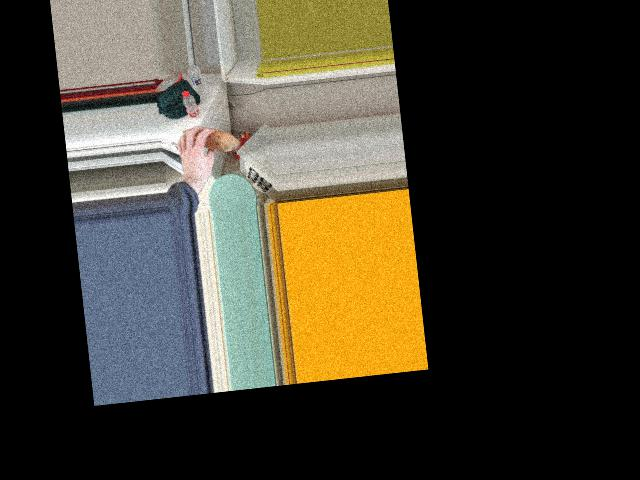sweet_potato: (178, 123, 238, 155)
